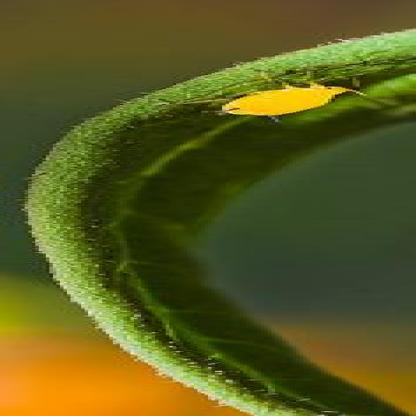aphid: (176, 69, 403, 124)
